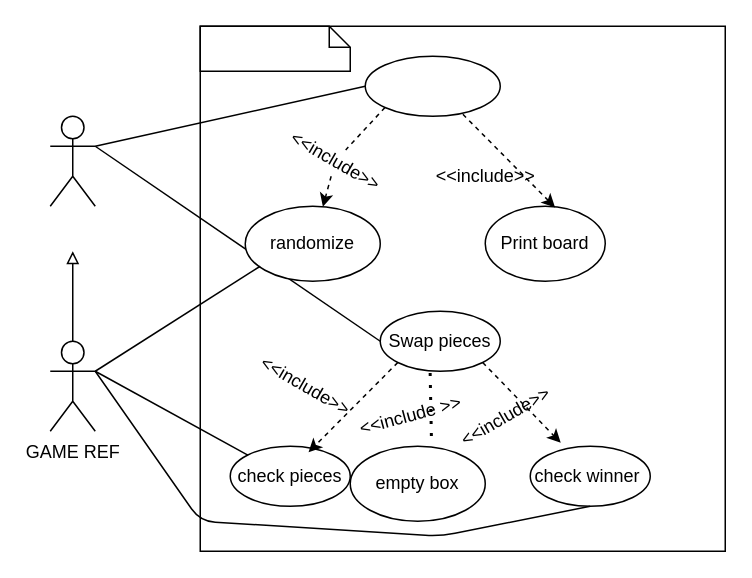
This 752x578 diagram has some shape labels left out. The centre of each missing label's shape, as x and y in pixels:
initiate Board: (x=432, y=85)
player: (x=72, y=160)
Puzzle game: (x=274, y=48)
